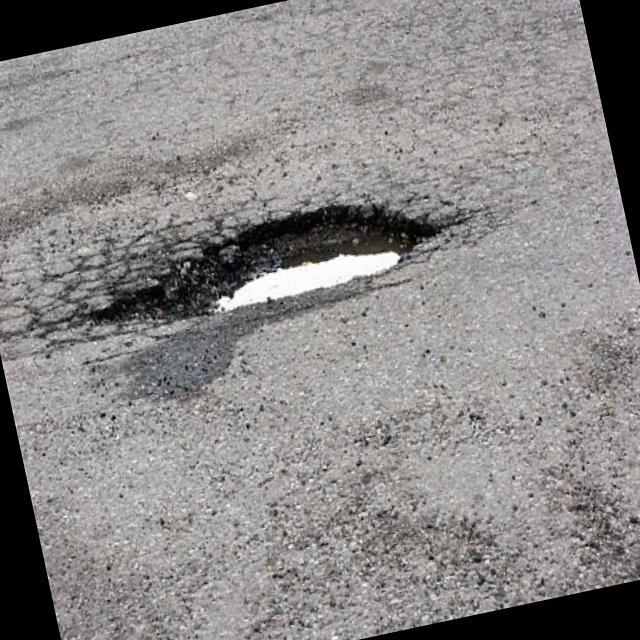Pothole: (70, 158, 468, 369)
